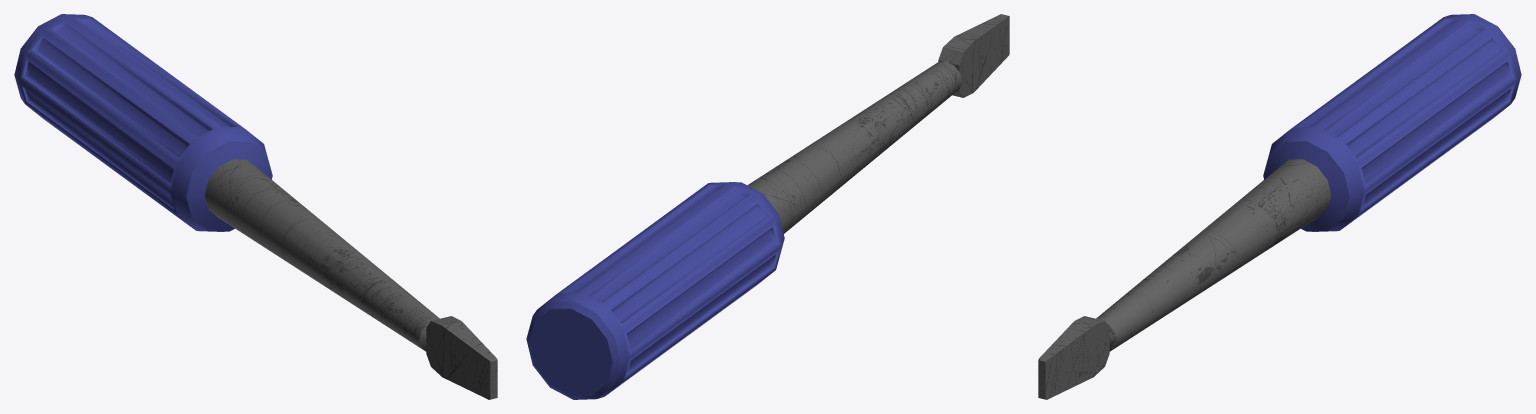
Rendered from screwdriver.fbx.
3 views of the same model, side by side, from view 1: azimuth 30°, elevation 25°; view 2: azimuth 150°, elevation 25°; view 3: azimuth 330°, elevation 25° (orthographic).
Parts seen in each view (by area): view 1: bake; view 2: bake; view 3: bake.
Boxes of the visible parts, x1,y1,x2,y2 form: bake: (14,14,497,399); bake: (526,14,1009,399); bake: (1038,14,1521,399).
Bounding box in the file's own units: 200 × 200 × 1525.
1 material, 1 textured.
